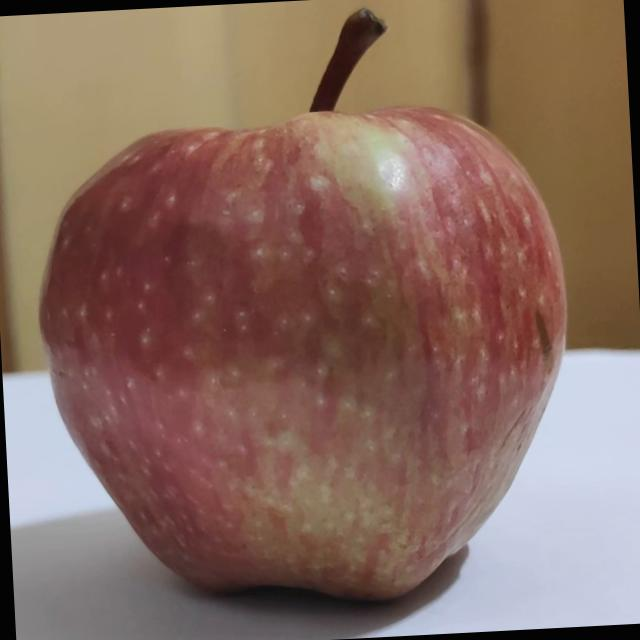apple: (6, 0, 625, 640)
